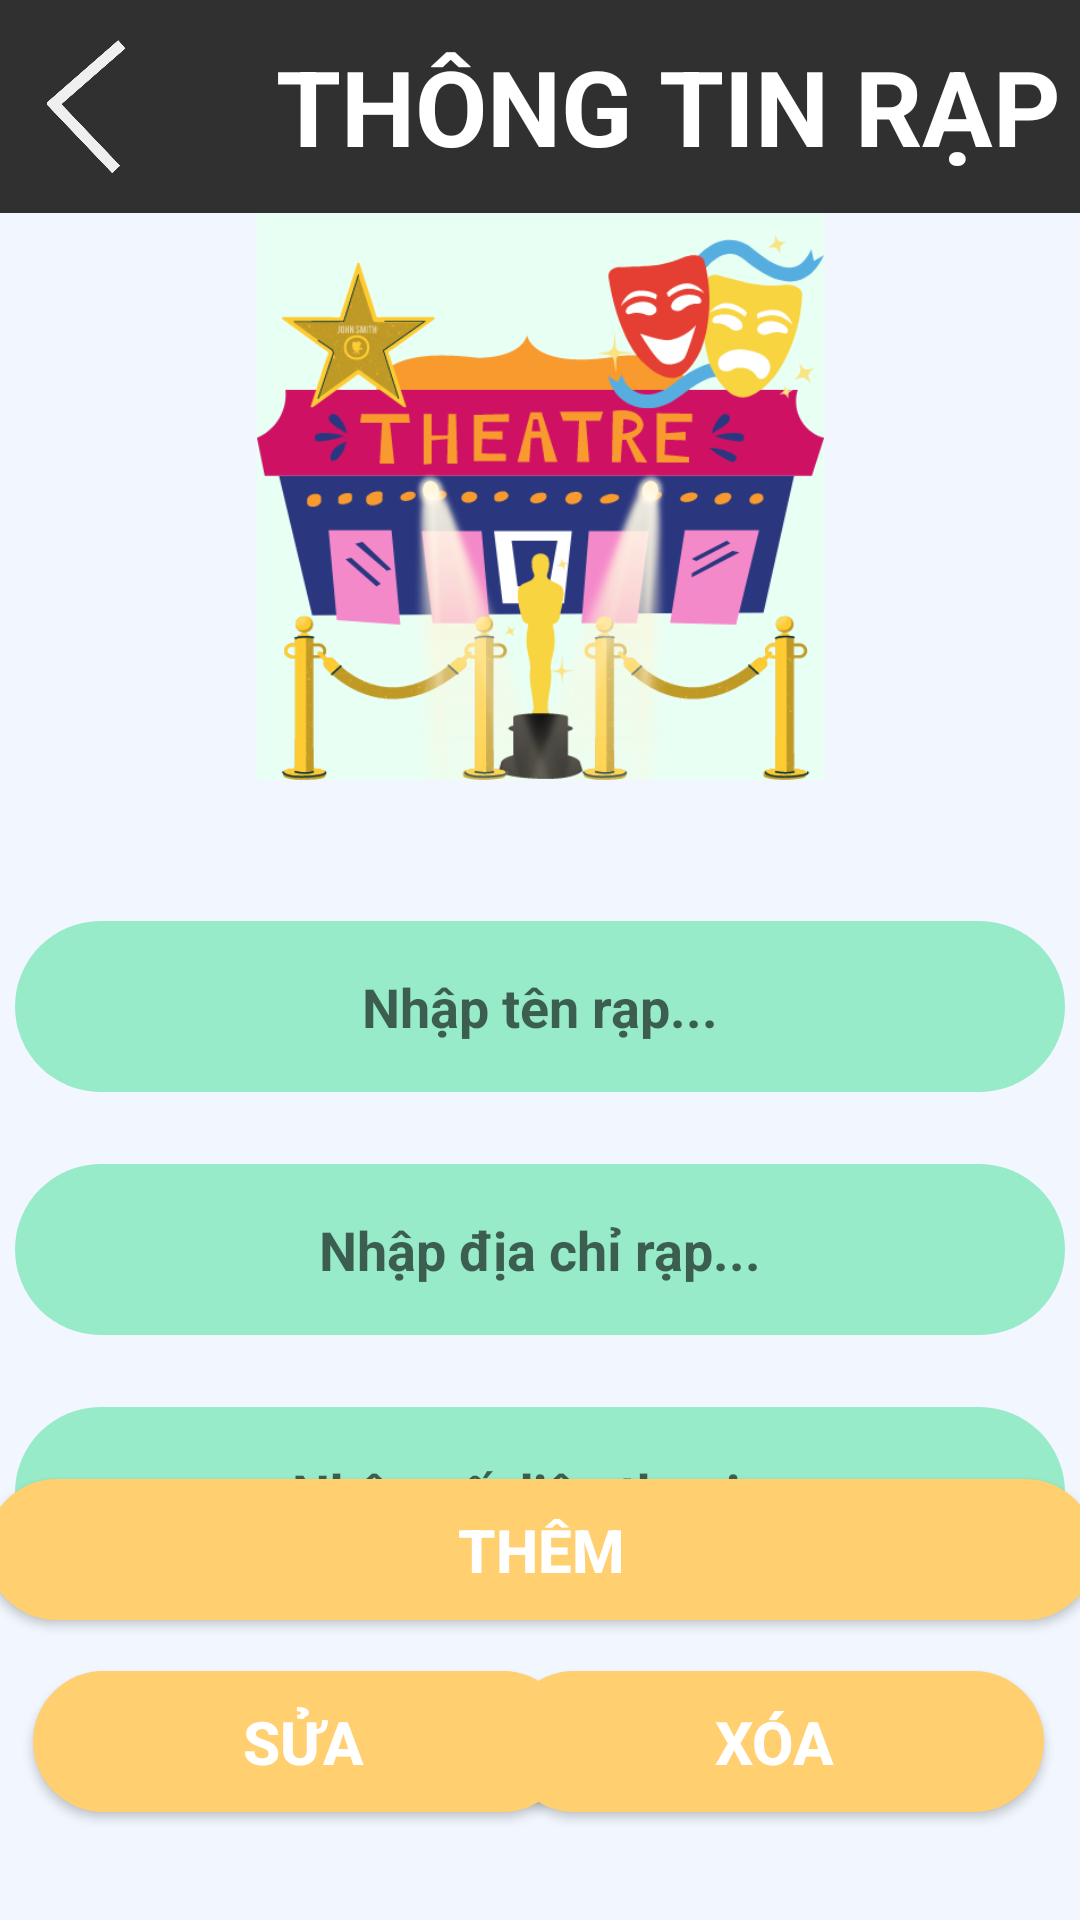

Named icons in this screenshot (1080w x 1920h) and their bounding boxes, (x1, y1, x2, y2):
turnback: (47, 40, 125, 173)
